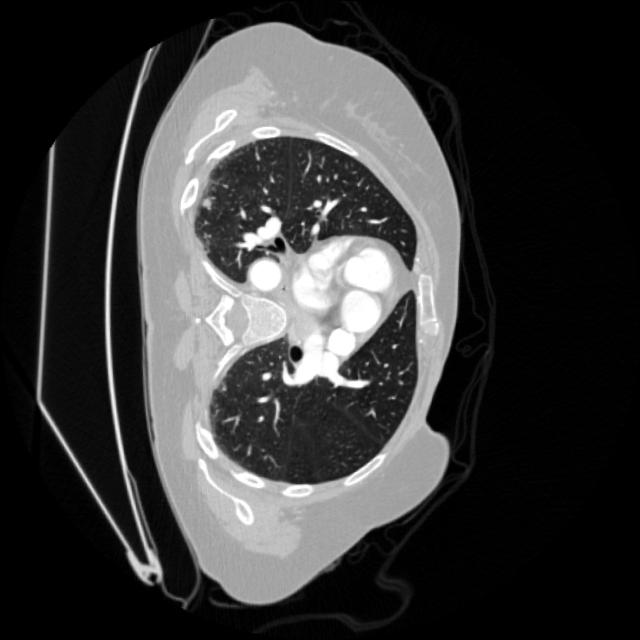nodule: (196, 194, 218, 216)
